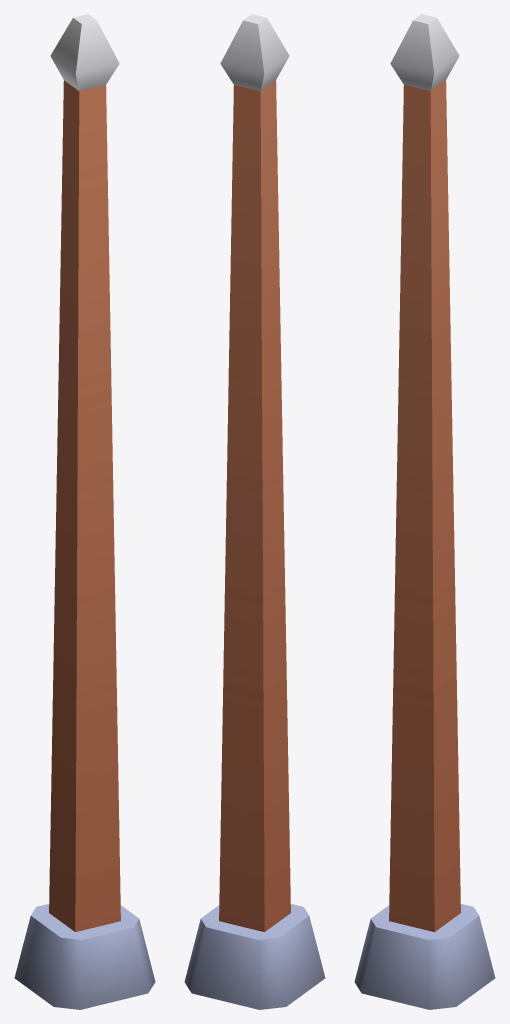
File: flagpole.fbx
3 renders of one model, left to right at view 1: azimuth 30°, elevation 25°; view 2: azimuth 150°, elevation 25°; view 3: azimuth 330°, elevation 25°, orthographic.
Visible parts, largest first — view 1: flag-high-pennant; view 2: flag-high-pennant; view 3: flag-high-pennant.
Boxes of the visible parts, left/top/right/bottom form: flag-high-pennant: left=14, top=14, right=155, bottom=1009; flag-high-pennant: left=184, top=14, right=325, bottom=1009; flag-high-pennant: left=354, top=14, right=495, bottom=1009.
Size of the model in its own units: 39.89 by 360 by 39.89.
